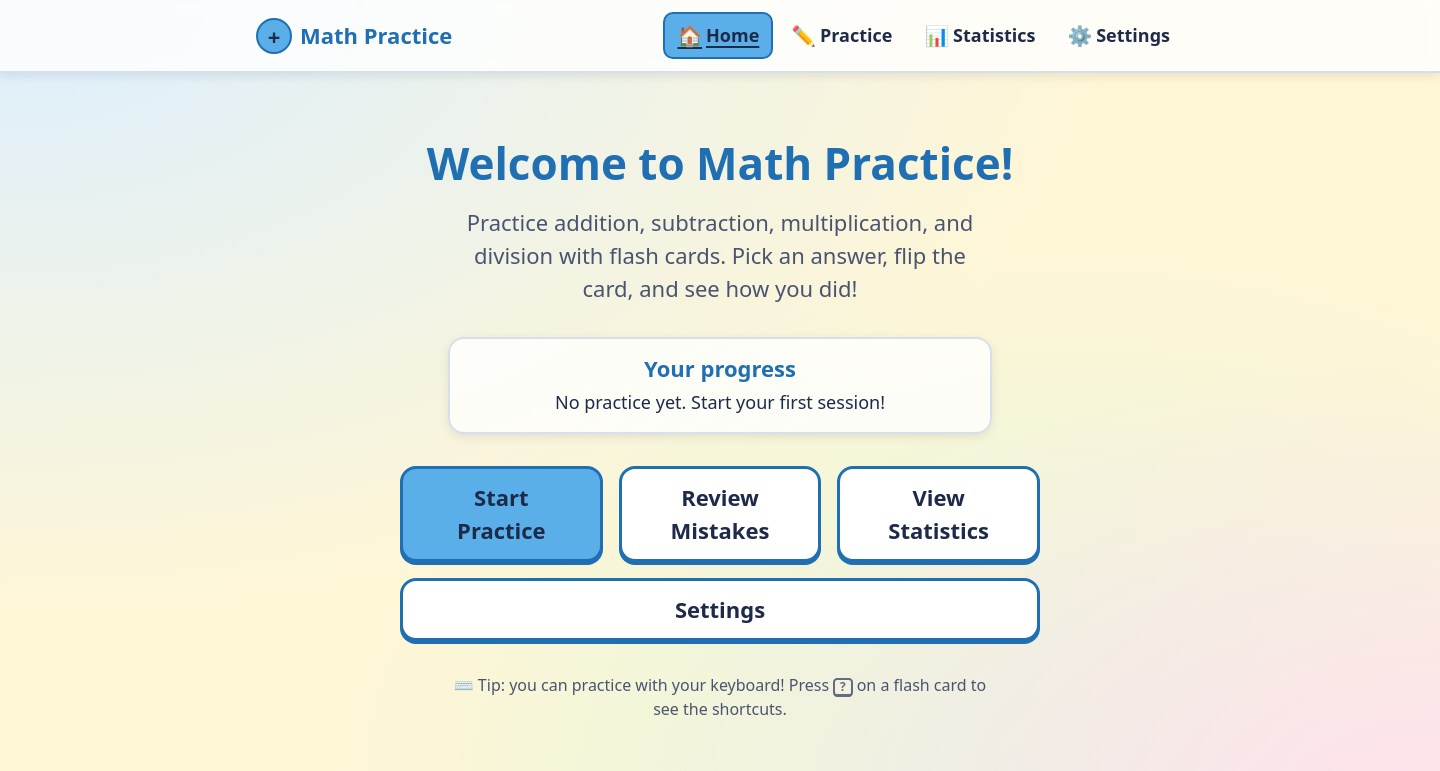
2. home page › Review Mistakes opens setup with mistake review chosen
The width and height of the screenshot is (1440, 771).
Click the link "Review Mistakes" at (720, 514), box [619, 466, 821, 562]
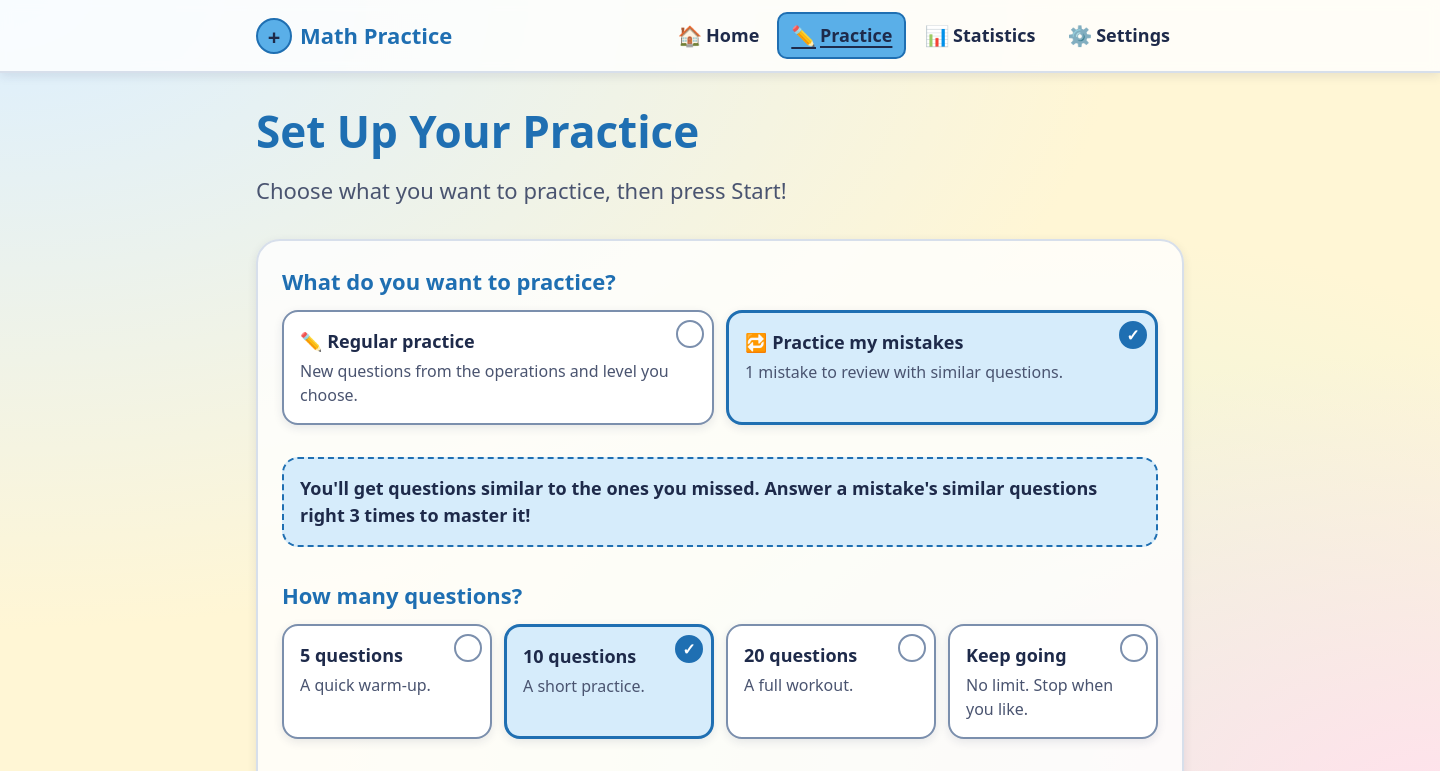
Check: the radio button labelled "Practice my mistakes" is checked, box [726, 310, 1158, 425]
